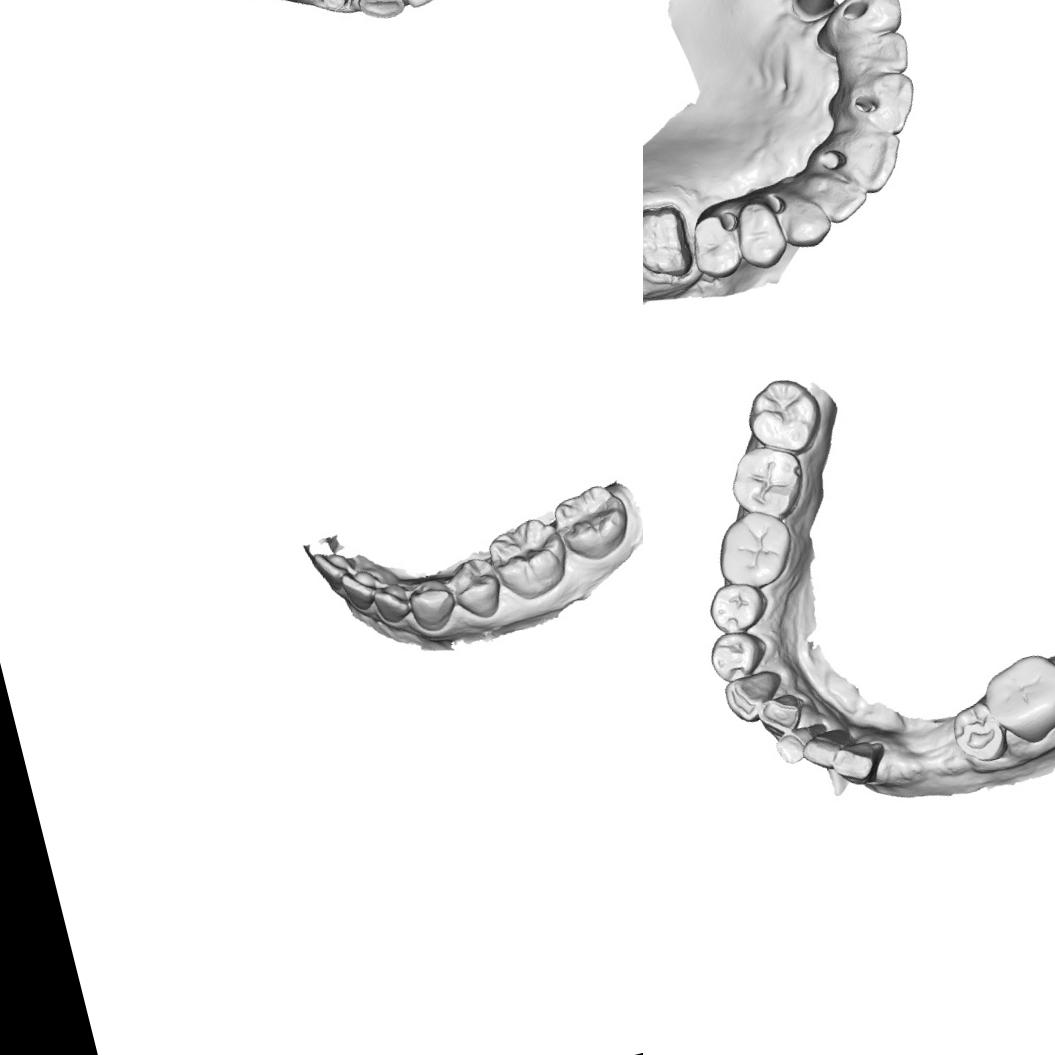abutment: (783, 0, 851, 26)
canine: (718, 661, 792, 727), (768, 184, 835, 256), (823, 0, 908, 46), (368, 576, 416, 628), (347, 0, 411, 26)
crown: (643, 194, 701, 286), (308, 0, 356, 16)
incisor: (843, 62, 926, 144), (832, 121, 912, 201), (840, 24, 914, 86), (808, 162, 872, 228), (826, 734, 891, 791), (797, 722, 857, 773), (771, 719, 831, 768), (752, 688, 808, 738), (337, 564, 386, 614), (308, 541, 360, 587)
molar: (704, 501, 802, 597), (737, 368, 830, 465), (483, 511, 576, 606), (722, 436, 814, 530), (977, 643, 1055, 753), (547, 478, 637, 568)
premolar: (727, 194, 790, 276), (682, 206, 746, 284), (445, 552, 508, 624), (946, 696, 1009, 768), (702, 577, 772, 639), (702, 626, 768, 684), (402, 572, 460, 636)
